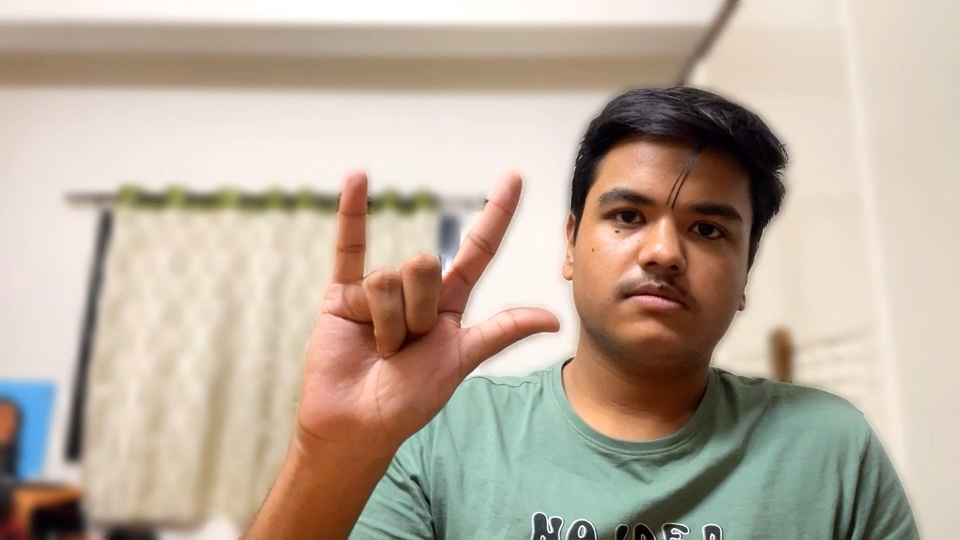ILoveYou: (288, 163, 565, 454)
